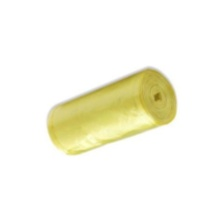plastic_bag: (39, 59, 185, 163)
